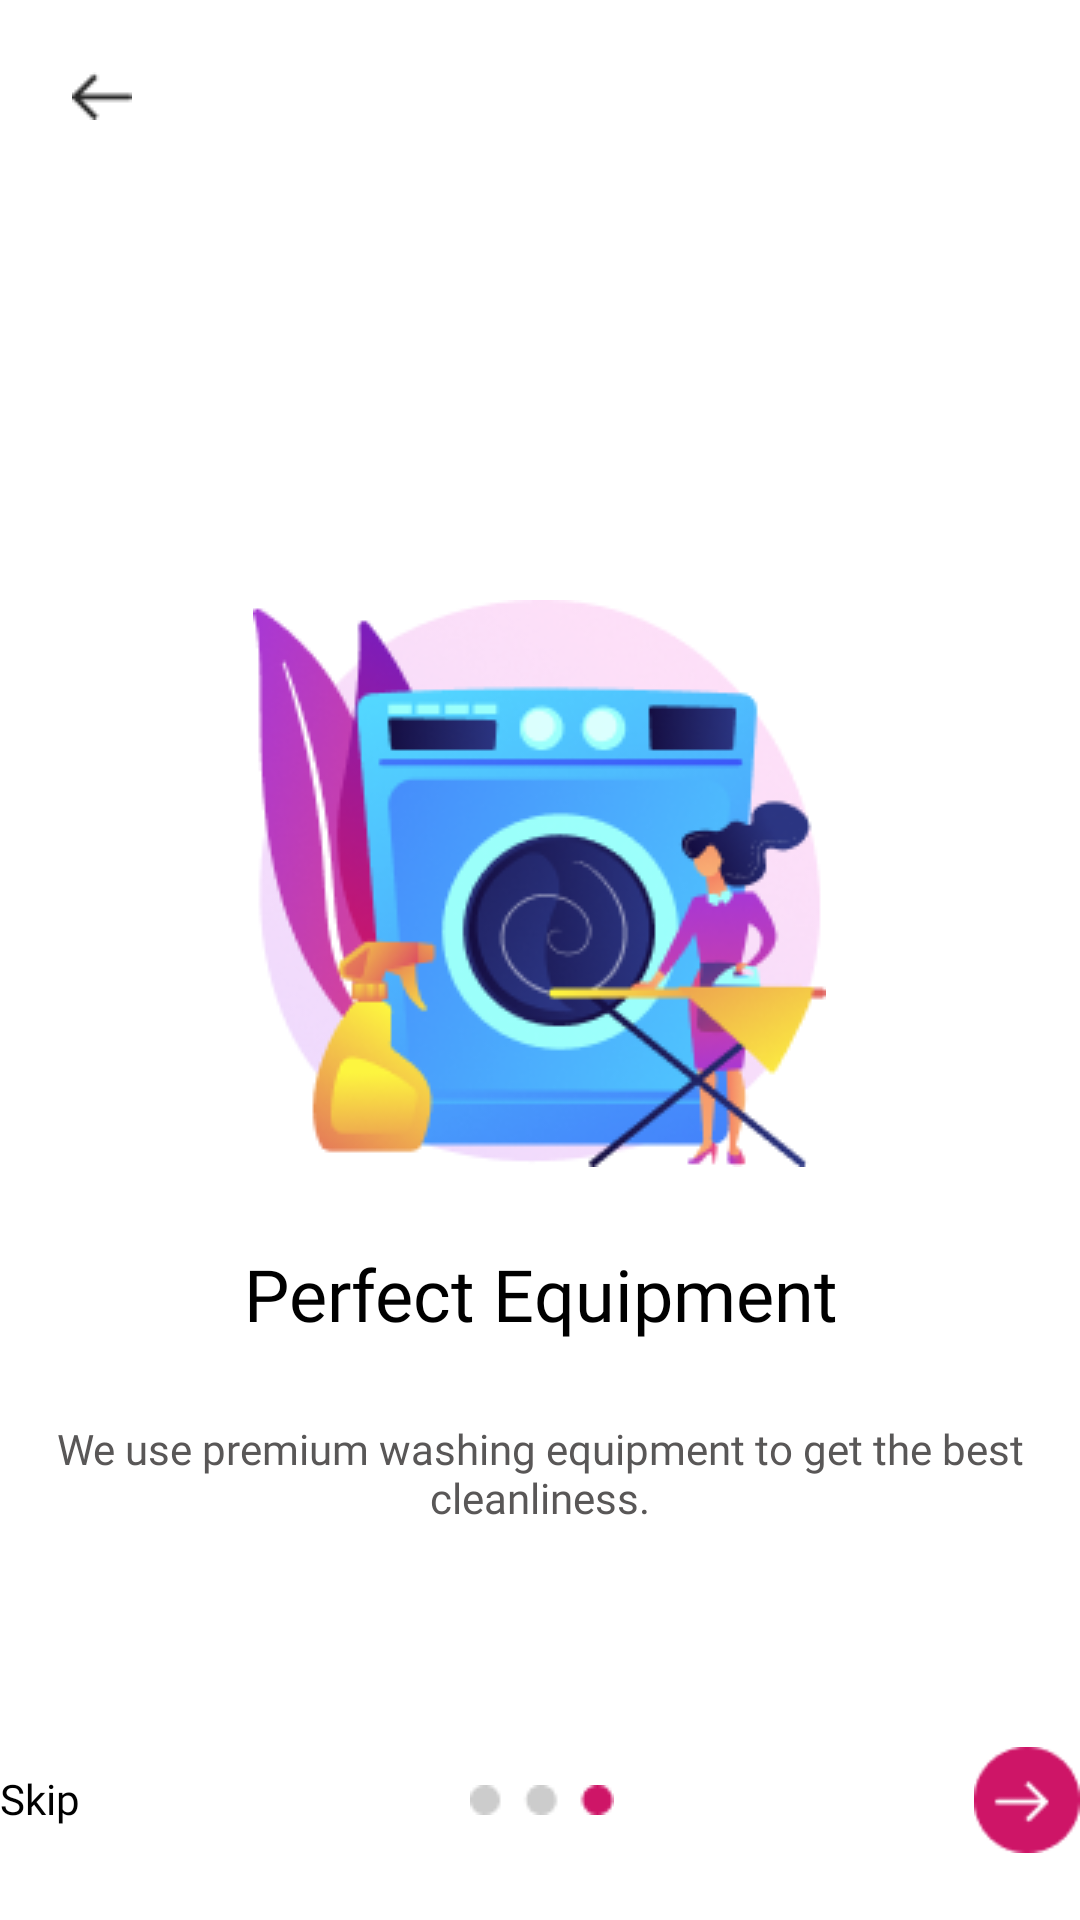

Screen size 1080px x 1920px. Icon name, then its center in pixels as (x=x, y=y):
back: (x=102, y=97)
btnnext: (x=1027, y=1800)
dot: (x=542, y=1800)
